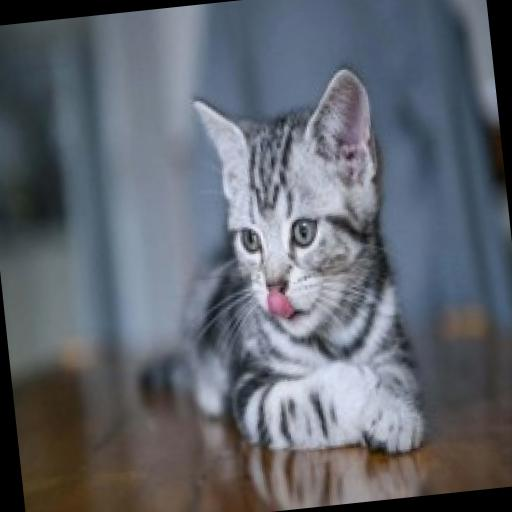cat: (110, 60, 440, 486)
